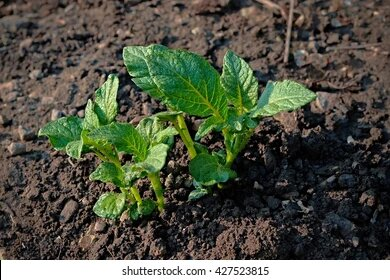potato_plant: (122, 42, 316, 188), (38, 73, 168, 216)
